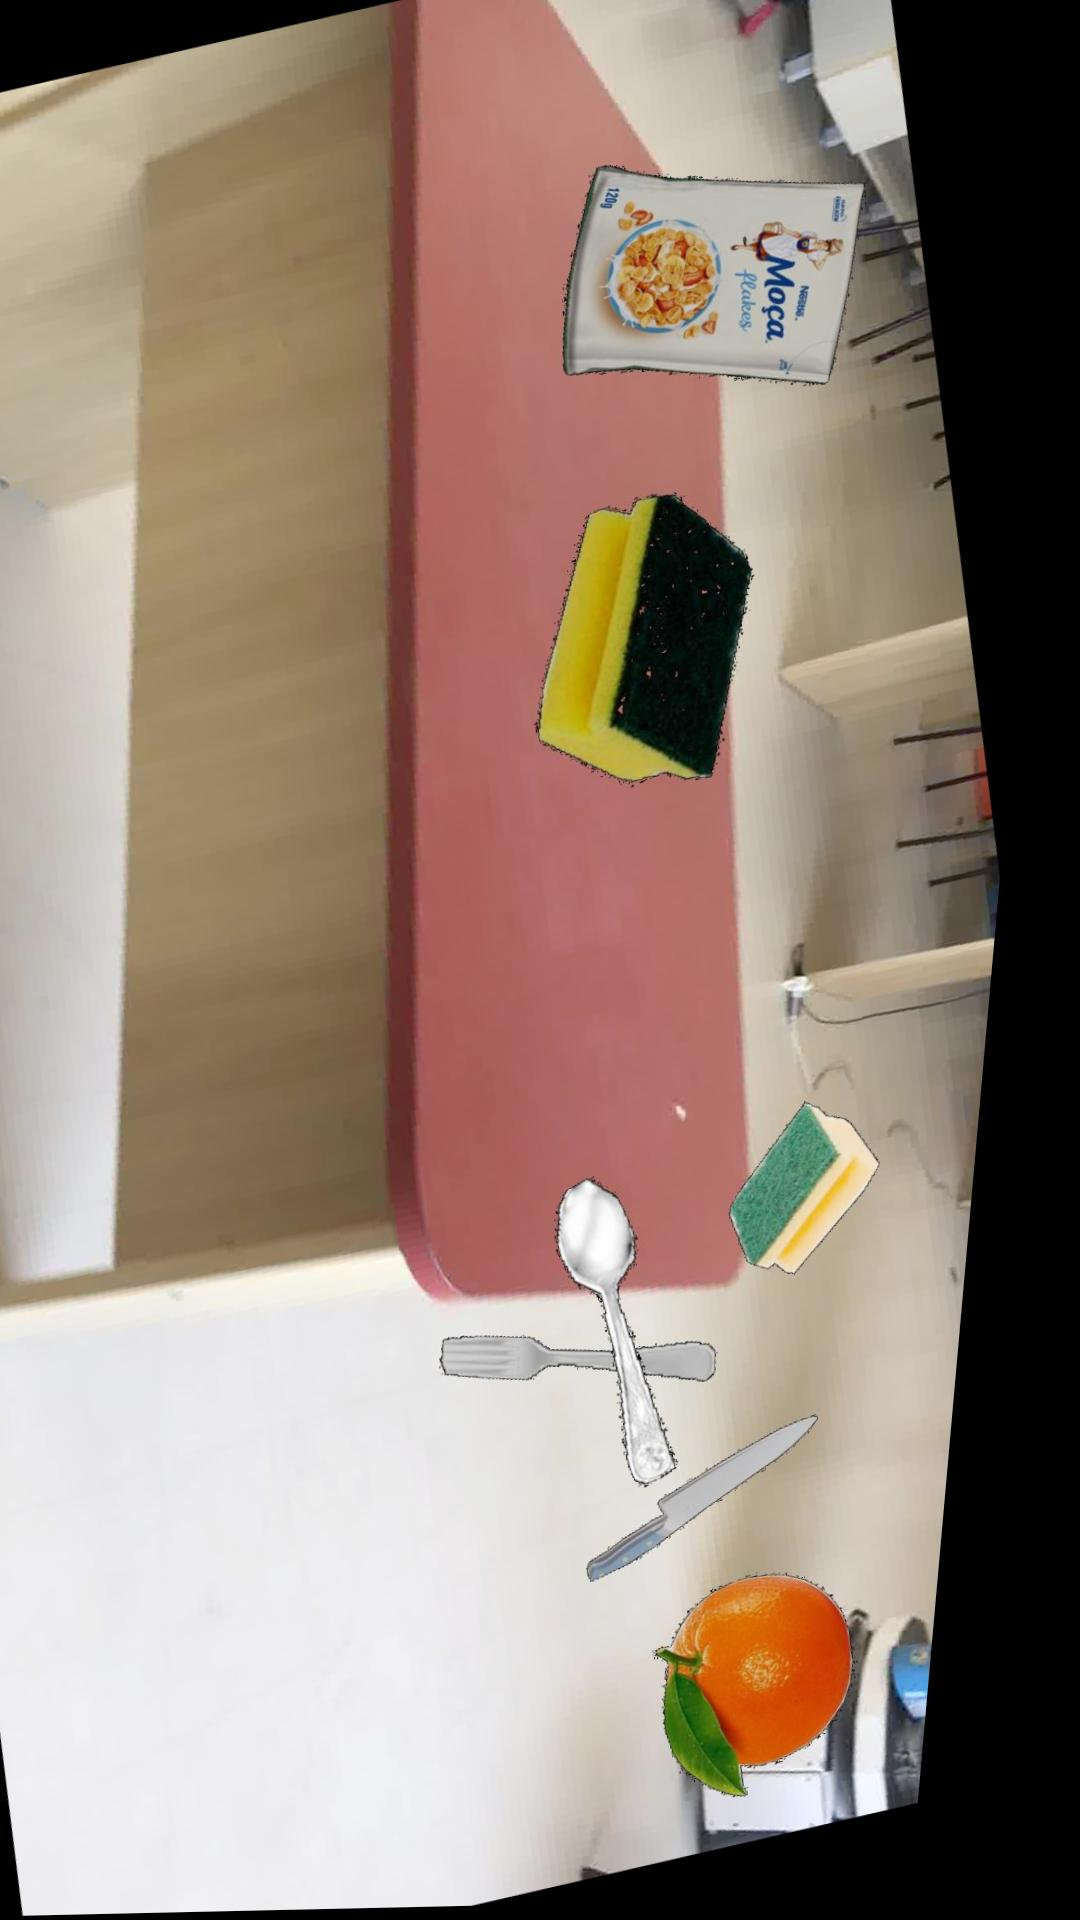corn flakes: (567, 169, 866, 390)
fork: (463, 1340, 740, 1387)
knife: (613, 1420, 843, 1586)
orange: (683, 1578, 884, 1803)
sponge: (547, 498, 761, 786), (749, 1106, 899, 1279)
spoon: (575, 1183, 702, 1489)
